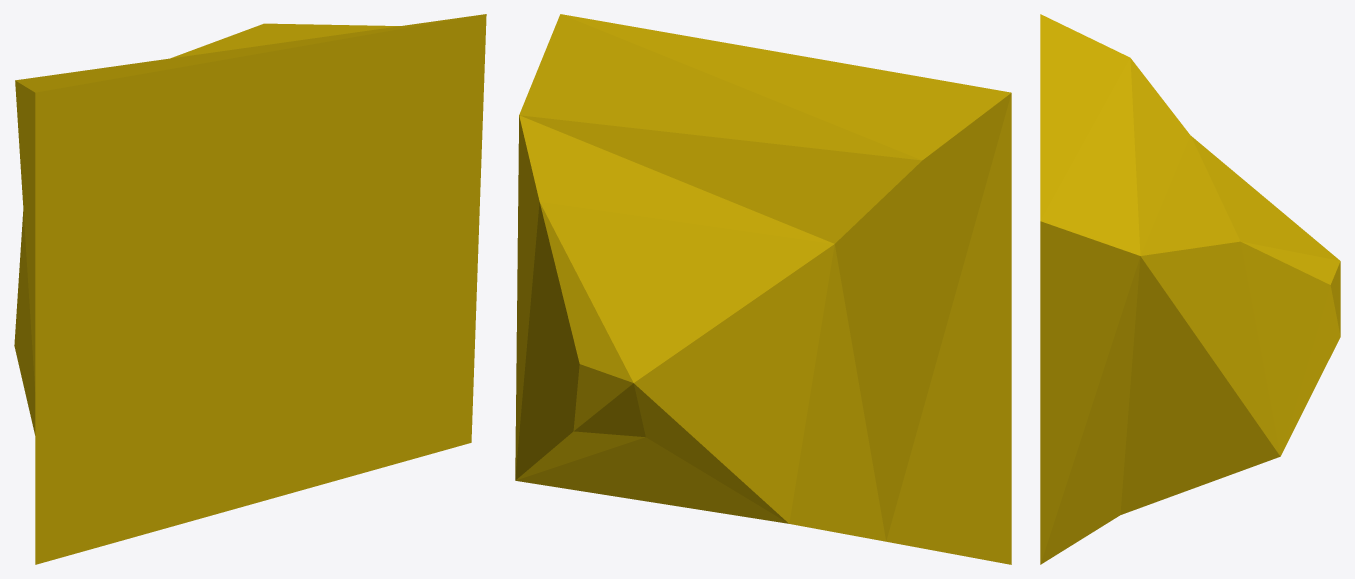
File: Gold.fbx
The picture shows the model from 3 angles, left to right: view 1: azimuth 30°, elevation 25°; view 2: azimuth 150°, elevation 25°; view 3: azimuth 270°, elevation 25°; orthographic projection. The views are drawn at different scales.
Parts seen in each view (by area): view 1: Cube; view 2: Cube; view 3: Cube.
Part boxes in pixels (left/top/right/bottom): Cube: left=14, top=14, right=486, bottom=564; Cube: left=515, top=14, right=1011, bottom=564; Cube: left=1040, top=14, right=1340, bottom=564.
Bounding box in the file's own units: 3 × 3 × 2.1.
